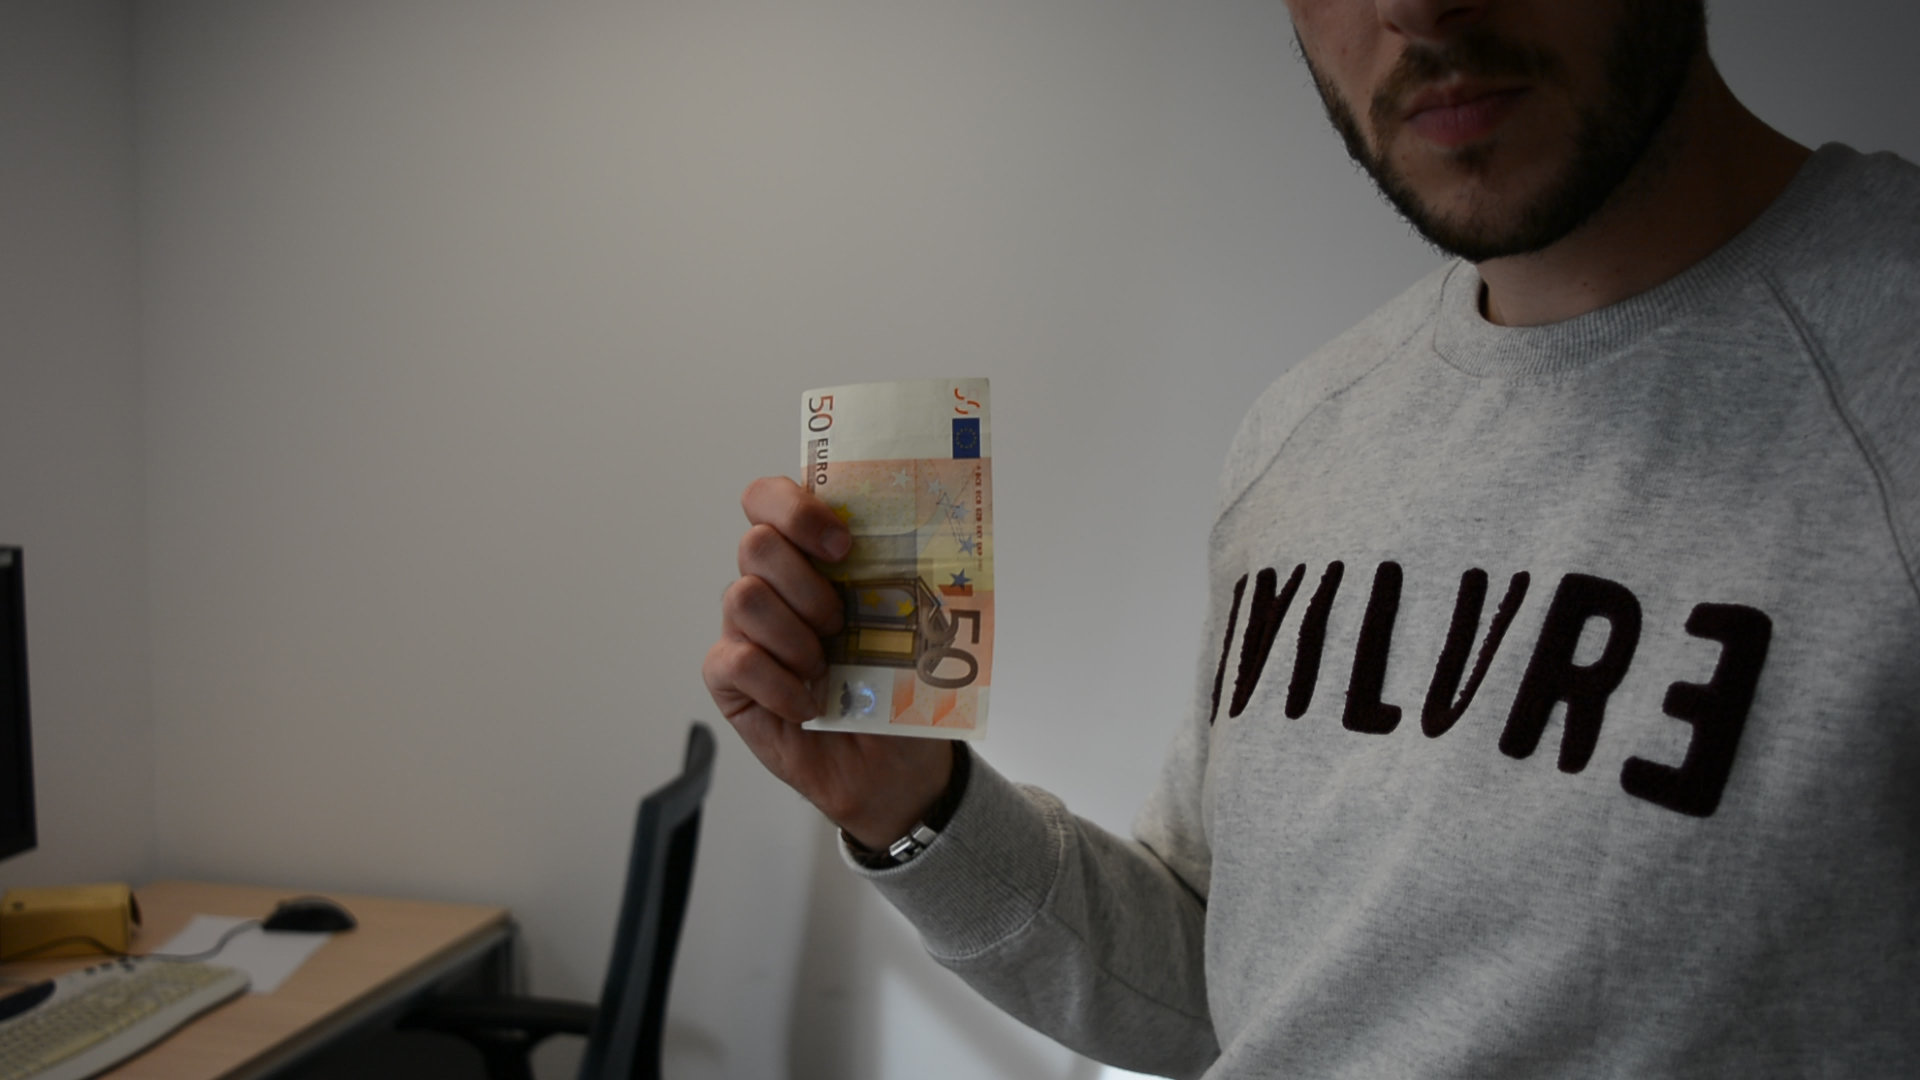billete: (796, 375, 1000, 746)
